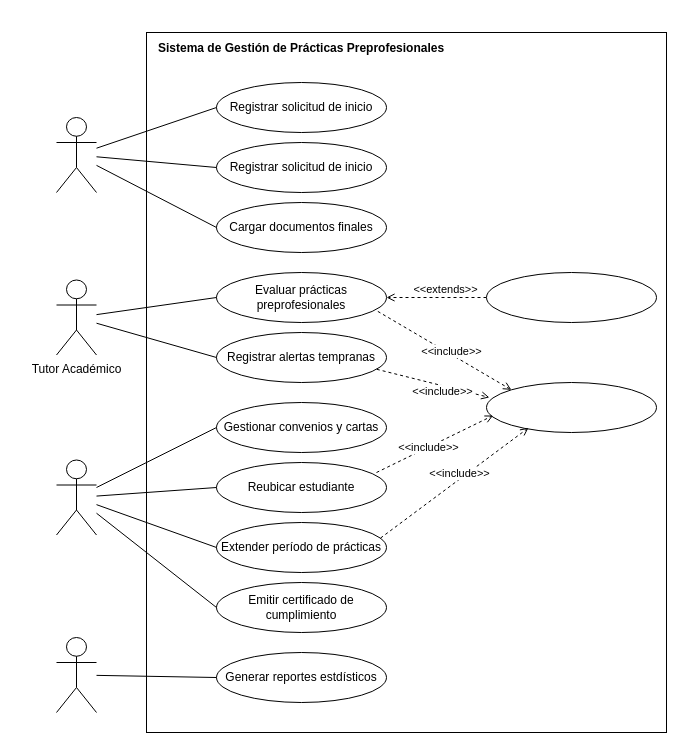
Image size: 684x750. Some labels were removed from this diagram. Here are the shapes that lost their labels. From the top down, the centre of each, then its label:
the point at 76,154: Estudiante
the point at 571,297: Registrar motivo de rechazo
the point at 571,407: Buscar expediente de estudiante
the point at 76,497: Docente Responsable
the point at 76,674: Director/a de carrera
